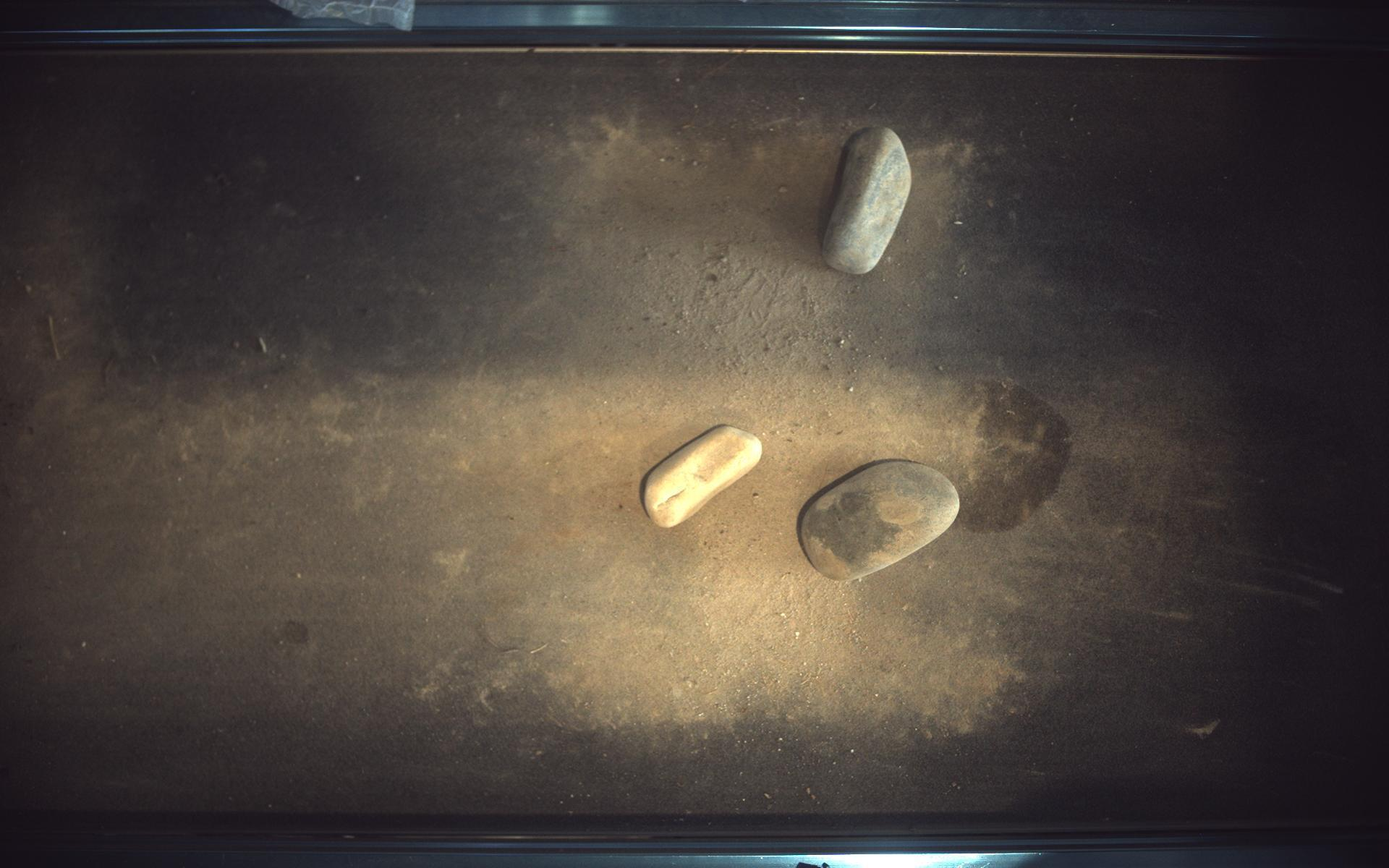stone: (800, 461, 961, 582), (824, 126, 913, 273), (643, 425, 764, 528)
